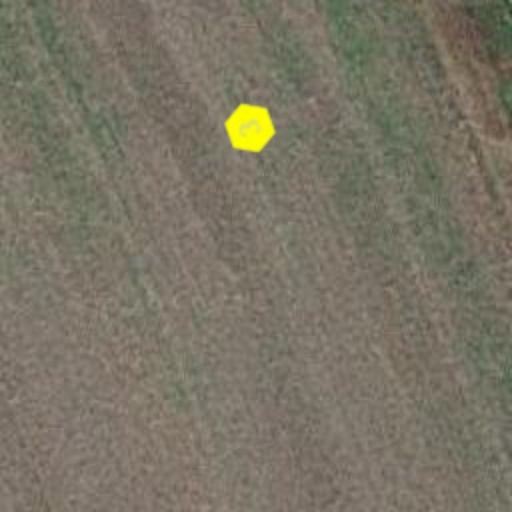hexagon: (216, 94, 284, 162)
